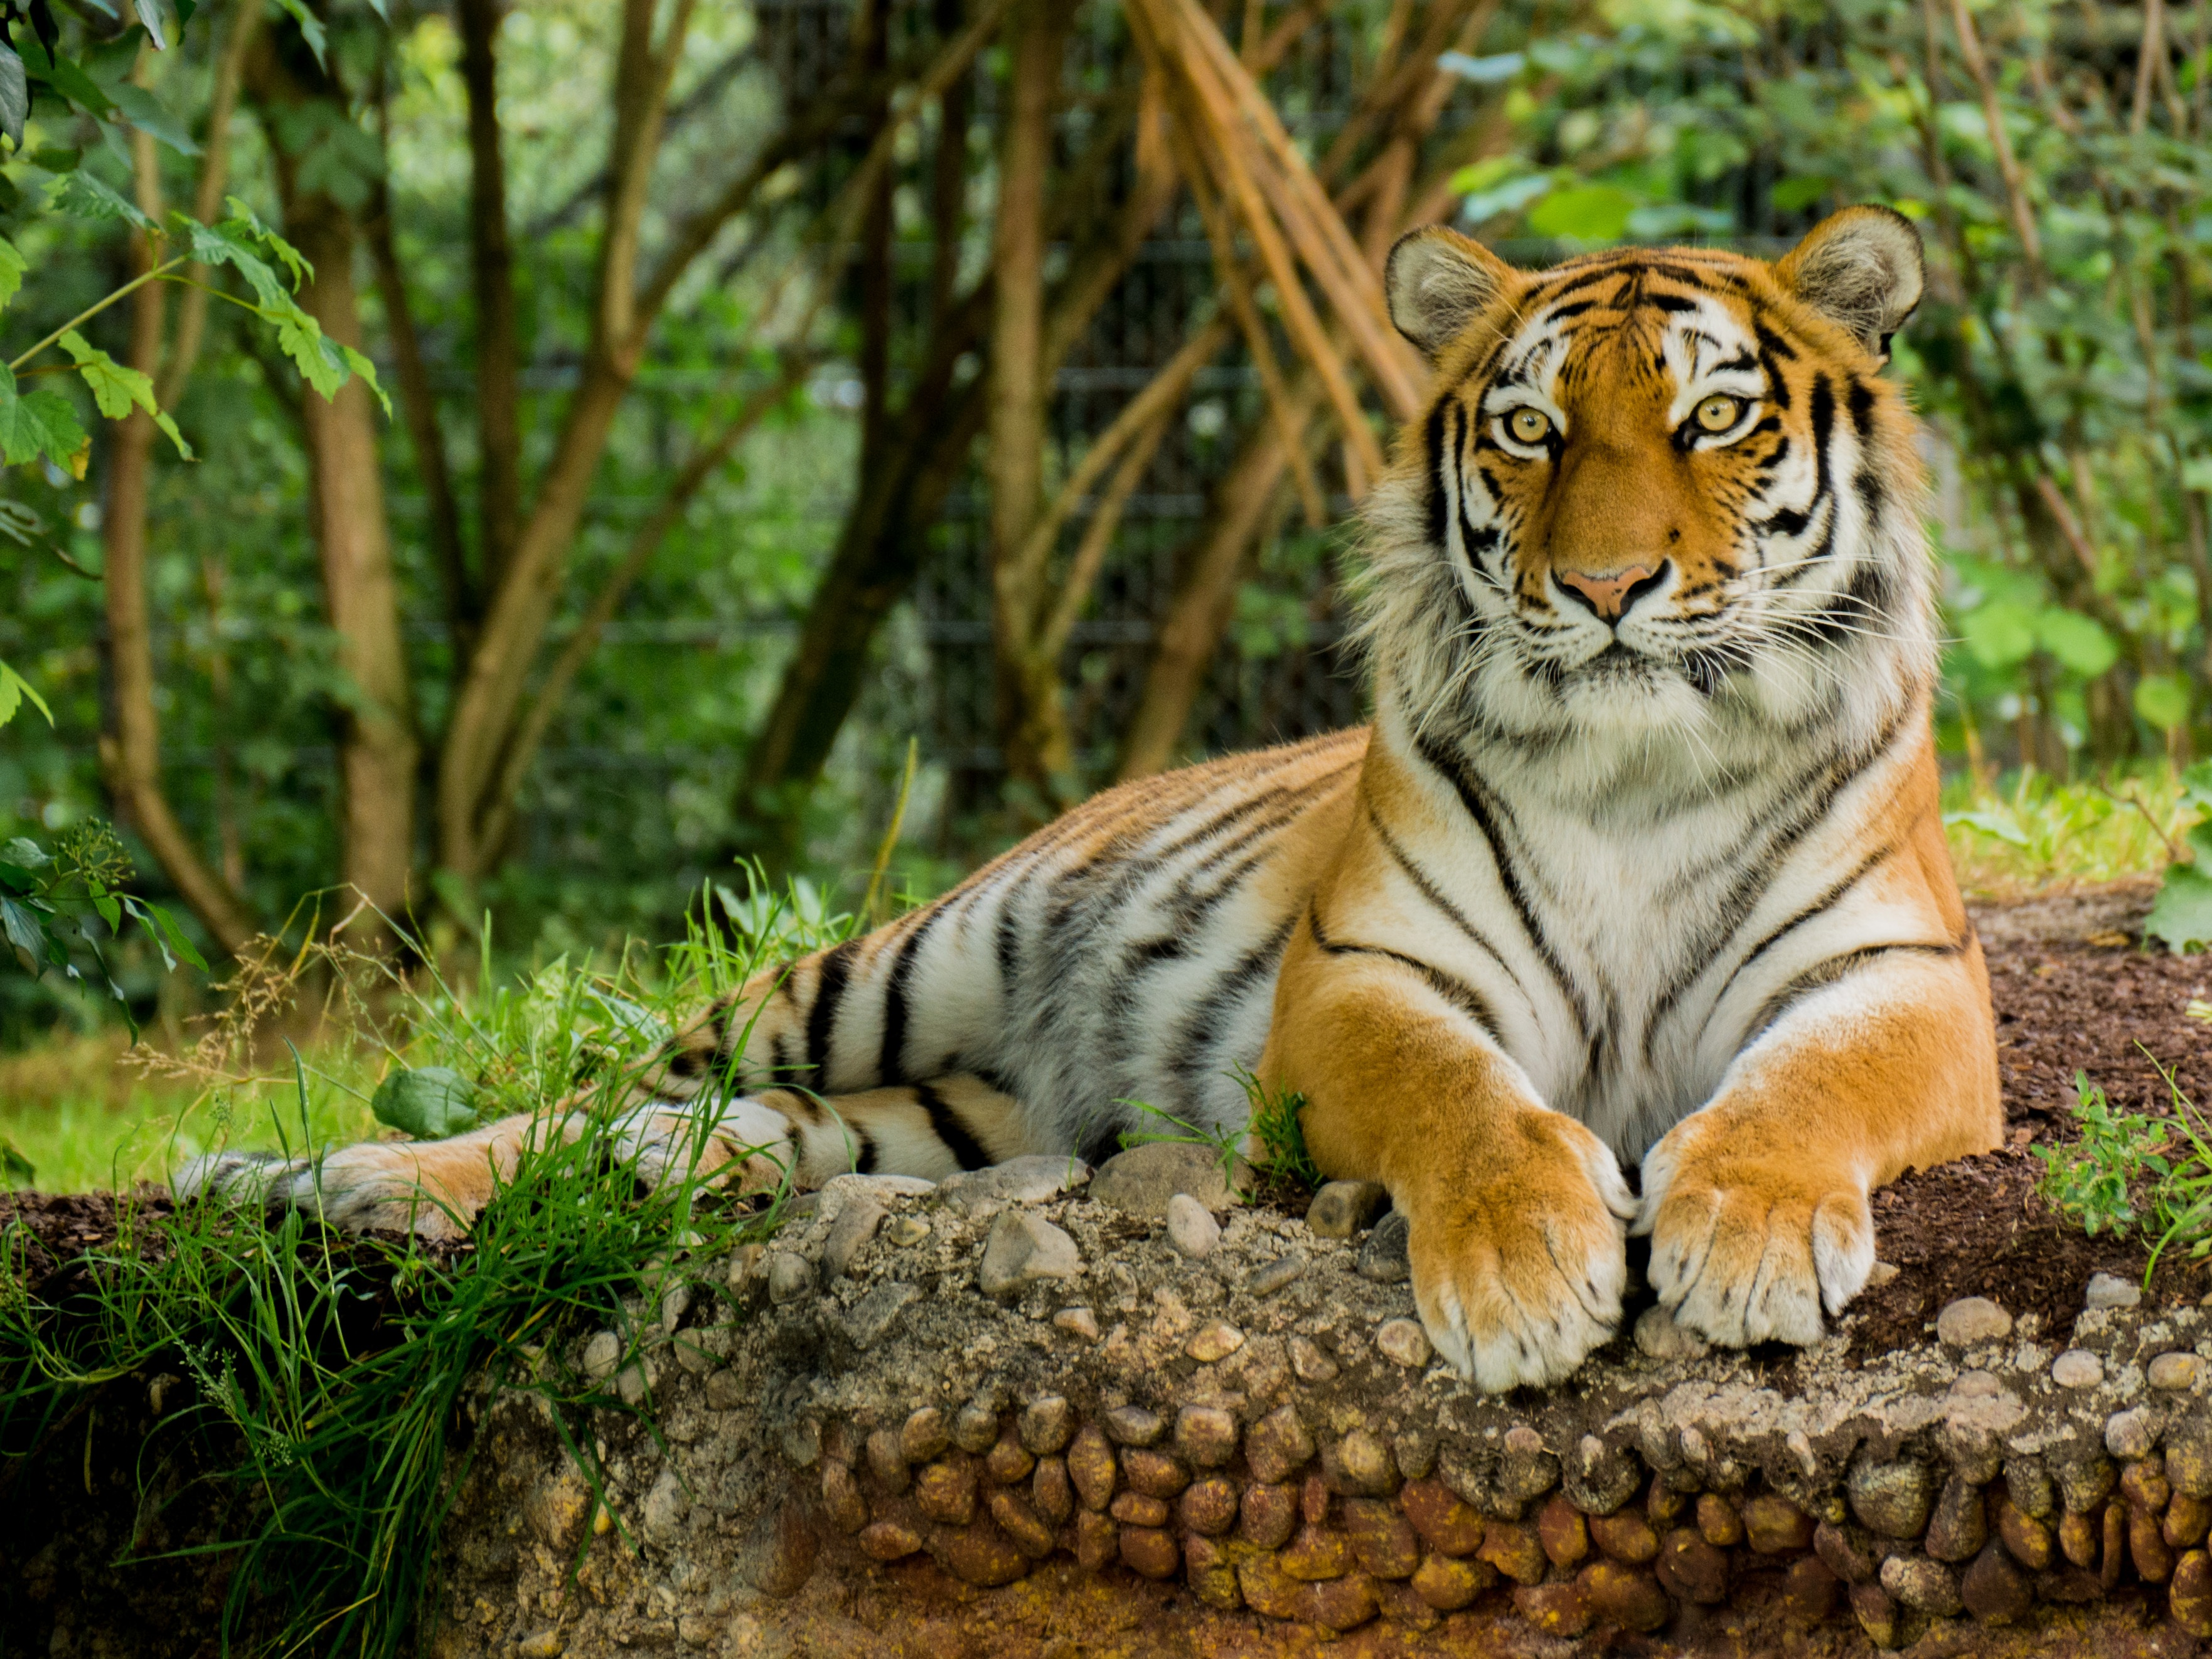tiger: (1128, 197, 2067, 1337)
